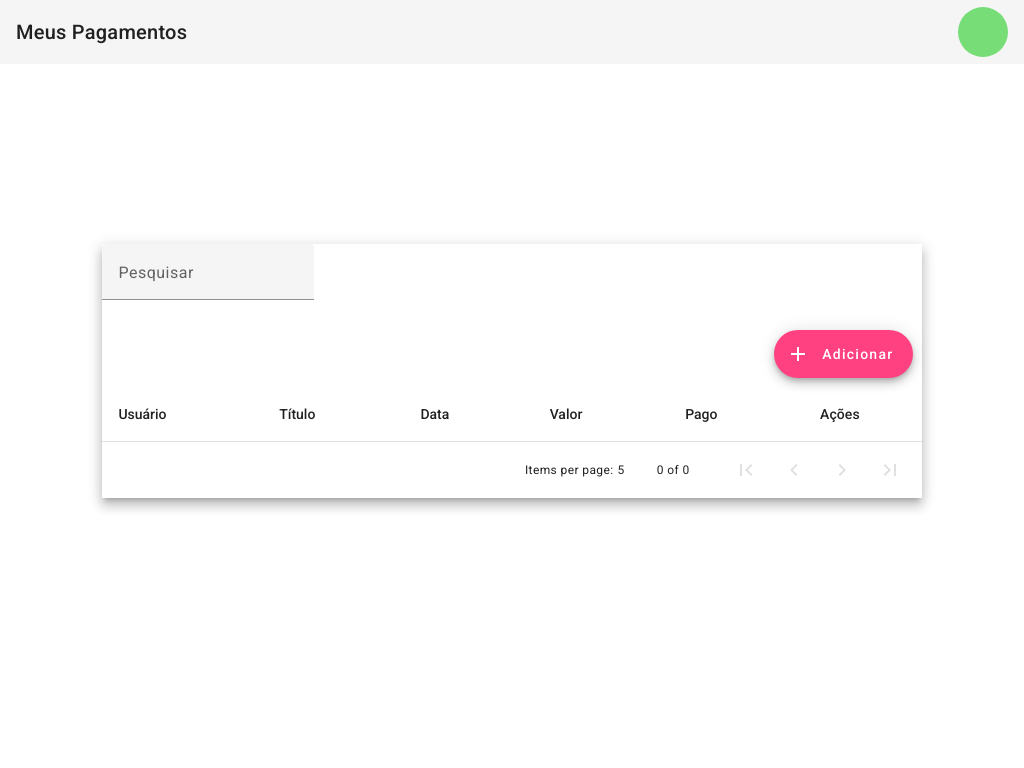
Test: PaymentsComponent Tests › should open the Add Payment dialog when the add button is clicked
The image size is (1024, 768).
Click the element with id "add-btn". click: (844, 354)
box: [774,330,913,378]
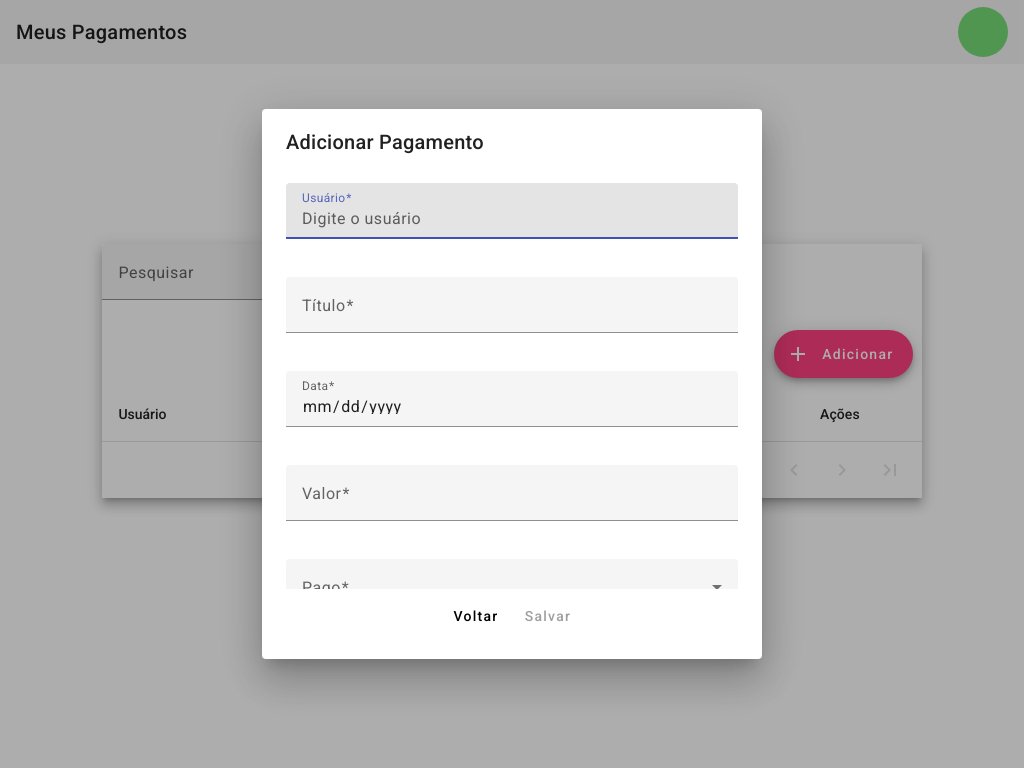
Expected: the dialog is shown, [262,109,762,659]
Expected: the heading "Adicionar Pagamento" is shown, [286,130,484,154]
